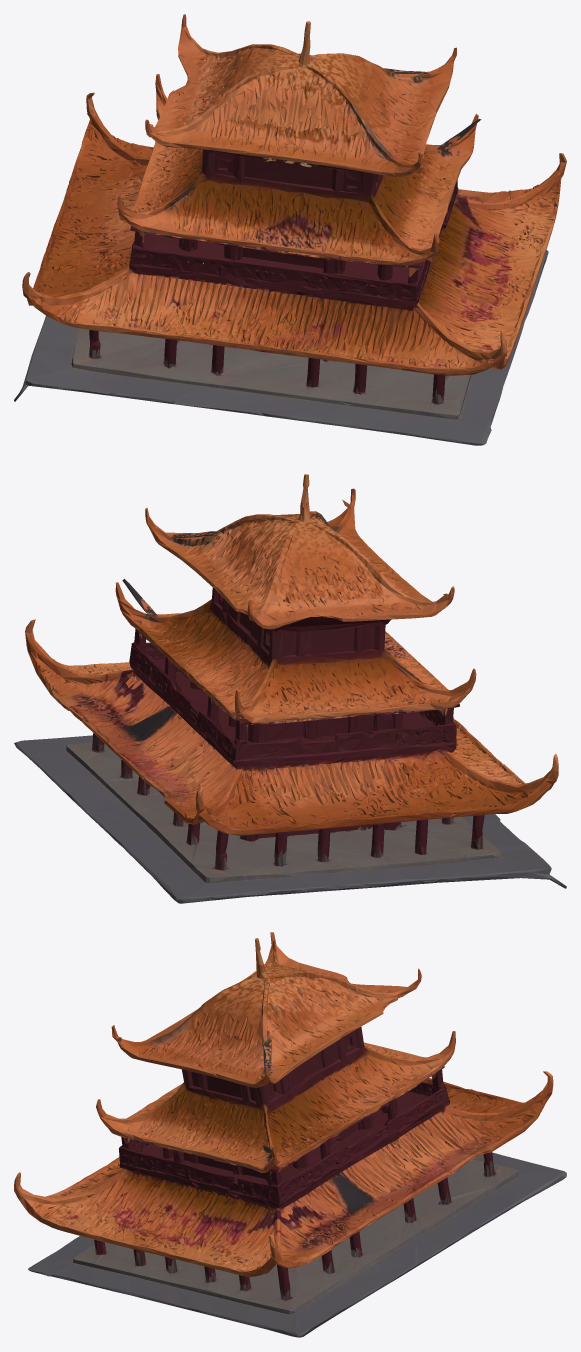
File: pavilion.glb
3 views of the same model, one above another, from view 1: azimuth 30°, elevation 25°; view 2: azimuth 150°, elevation 25°; view 3: azimuth 270°, elevation 25° (orthographic). The views are drawn at different scales.
Visible parts, largest first — view 1: geometry_0; view 2: geometry_0; view 3: geometry_0.
Part boxes in pixels (x1,y1,x2,y2): geometry_0: [14, 14, 566, 445]; geometry_0: [14, 474, 566, 903]; geometry_0: [14, 932, 566, 1337].
Size of the model in its own units: 0.9598 by 0.5839 by 0.9379.
Materials: 1 (1 with a texture image).
